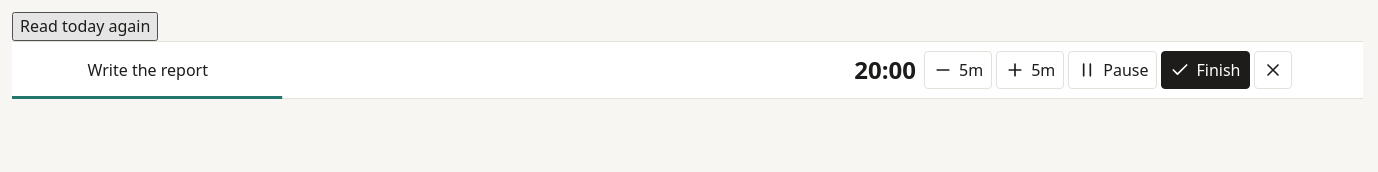
Test: RunningTimerBar › the label › saves when focus leaves the field
The image size is (1378, 172).
Click the button titled "Edit label" at (148, 70), box [84,53,846,88]
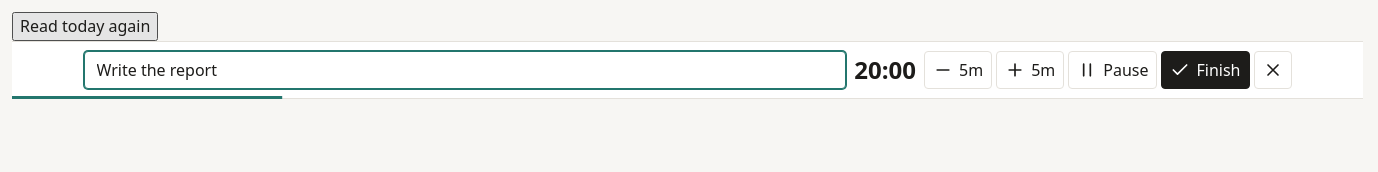
Replace the text in the field named "Session label" with "Renamed" at (465, 70), box [84,51,846,89]
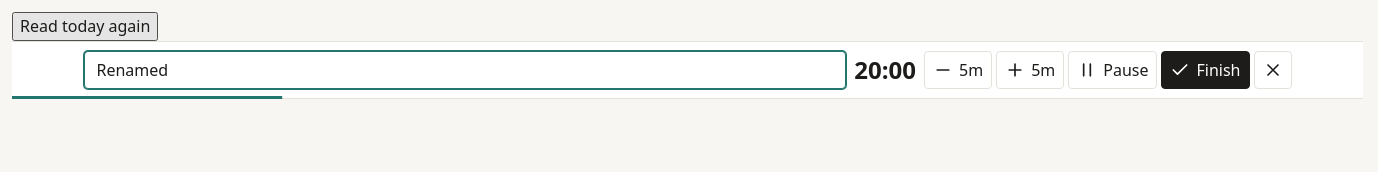
Leave the field named "Session label", box [84,51,846,89]
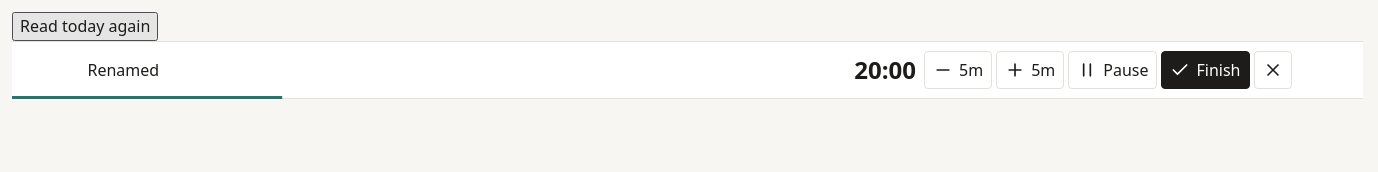
Expected: the field is gone
